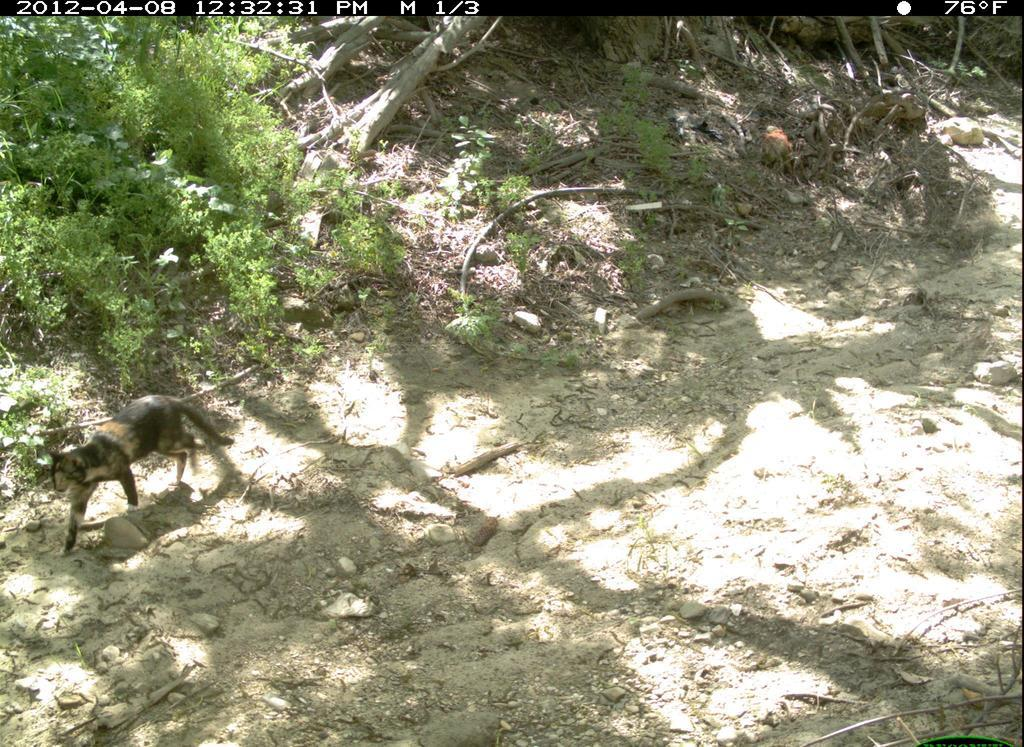cat: (38, 390, 241, 564)
